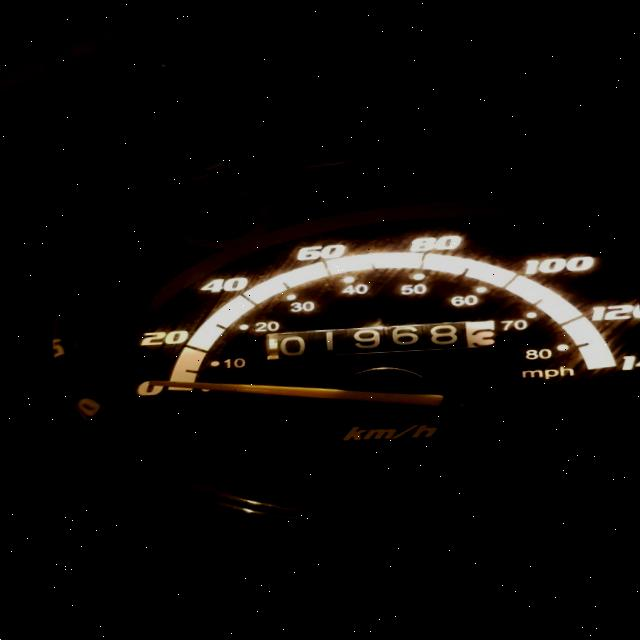odometer: (260, 318, 500, 362)
